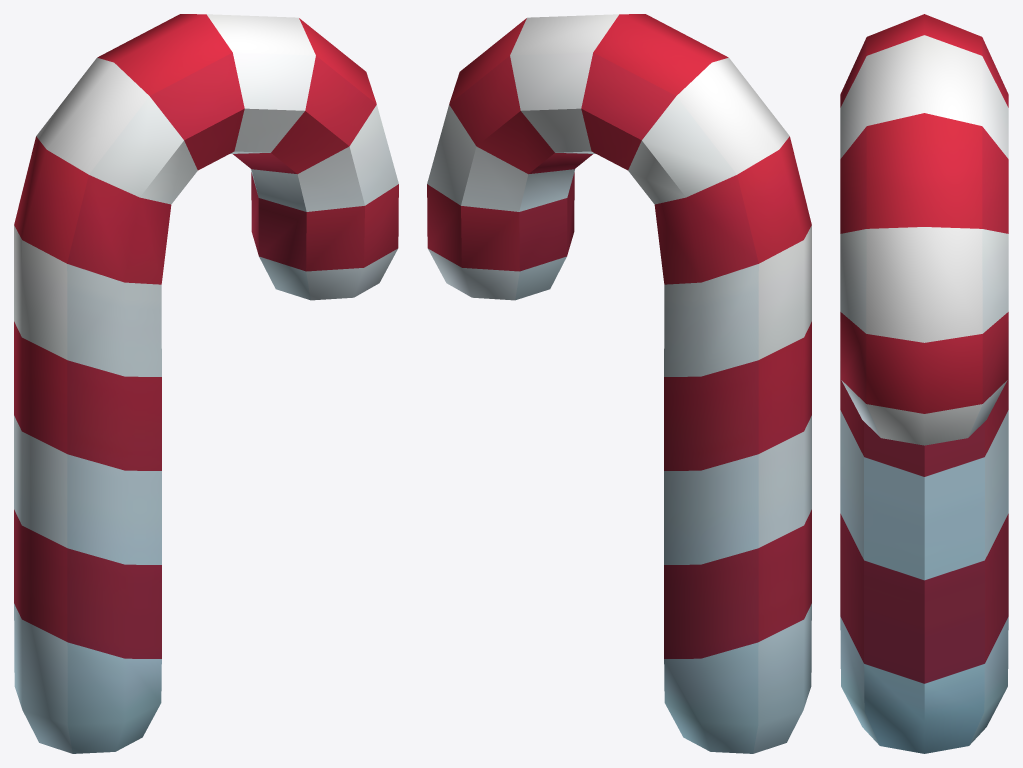
File: permen-tongkat.glb
The picture shows the model from 3 angles, left to right: view 1: azimuth 30°, elevation 25°; view 2: azimuth 150°, elevation 25°; view 3: azimuth 270°, elevation 25°; orthographic projection. The views are drawn at different scales.
Visible parts, largest first — view 1: candycane_small; view 2: candycane_small; view 3: candycane_small.
Boxes of the visible parts, x1,y1,x2,y2 form: candycane_small: (14, 14, 398, 753); candycane_small: (427, 14, 811, 753); candycane_small: (840, 14, 1008, 753).
Bounding box in the file's own units: 3.28 × 6 × 1.18.
1 material, 1 textured.
